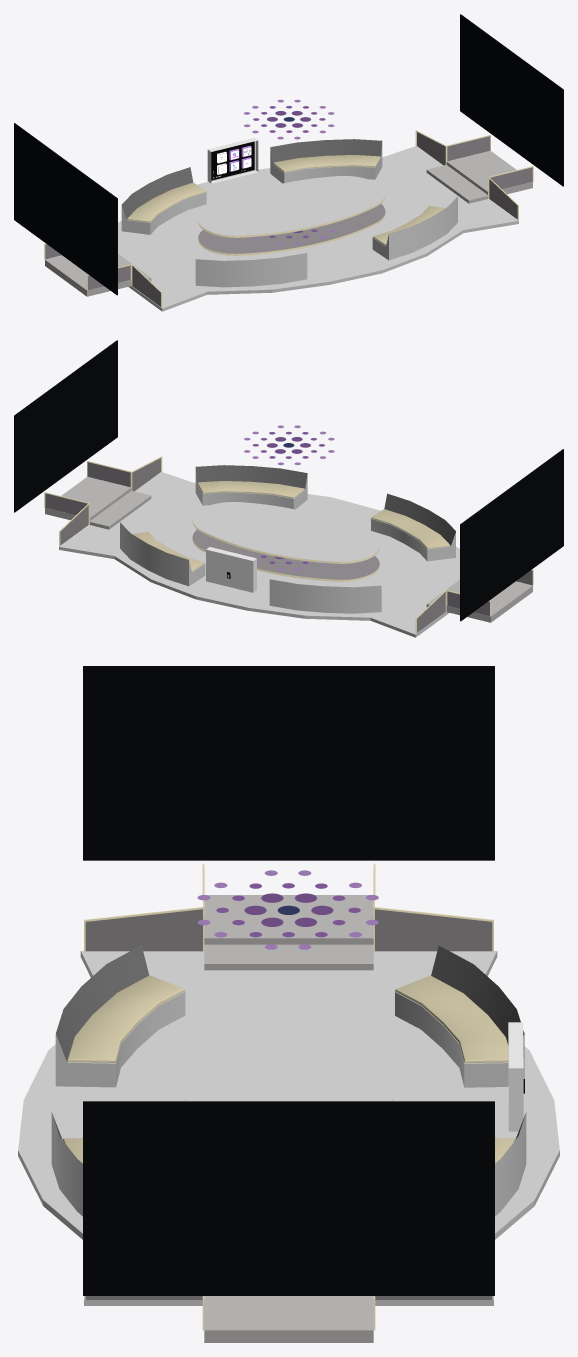
Rendered from corporativeMode4.glb.
The picture shows the model from 3 angles, top to bottom: view 1: azimuth 30°, elevation 25°; view 2: azimuth 150°, elevation 25°; view 3: azimuth 270°, elevation 25°; orthographic projection. The views are drawn at different scales.
Visible parts, largest first — view 1: p05_floor, p05_sofa, p05_tv_001, p05_tv_002.001, p05_tablev2_001, p05_stairs_001.001, p05_glass_floor, p05_railing_001, p05_railing_002, p05_buttonsz_01, p05_logo_MRCgroup.002, p05_buttonsz_02 (+1 smaller); view 2: p05_floor, p05_sofa, p05_tv_001, p05_tv_002.001, p05_tablev2_001, p05_stairs_001.001, p05_glass_floor, p05_buttonsz_02, p05_railing_001, p05_railing_002, p05_logo_MRCgroup.002, p05_railing_003; view 3: p05_tv_002.001, p05_tv_001, p05_floor, p05_sofa, p05_stairs_001.001, p05_tablev2_001, p05_railing_002, p05_logo_MRCgroup.002, p05_buttonsz_02, p05_railing_003.
Part boxes in pixels (x1=…): p05_floor: x1=118, y1=146, x2=518, y2=311; p05_sofa: x1=121, y1=139, x2=457, y2=287; p05_tv_001: x1=460, y1=14, x2=563, y2=186; p05_tv_002.001: x1=14, y1=123, x2=117, y2=295; p05_tablev2_001: x1=198, y1=176, x2=385, y2=237; p05_stairs_001.001: x1=45, y1=151, x2=532, y2=296; p05_glass_floor: x1=198, y1=204, x2=385, y2=255; p05_railing_001: x1=45, y1=136, x2=532, y2=290; p05_railing_002: x1=132, y1=132, x2=517, y2=306; p05_buttonsz_01: x1=211, y1=141, x2=254, y2=180; p05_logo_MRCgroup.002: x1=243, y1=99, x2=334, y2=139; p05_buttonsz_02: x1=207, y1=138, x2=258, y2=183; p05_floor: x1=59, y1=472, x2=459, y2=637; p05_sofa: x1=120, y1=465, x2=455, y2=613; p05_tv_001: x1=14, y1=340, x2=117, y2=512; p05_tv_002.001: x1=460, y1=449, x2=563, y2=621; p05_tablev2_001: x1=192, y1=502, x2=379, y2=563; p05_stairs_001.001: x1=45, y1=477, x2=532, y2=622; p05_glass_floor: x1=192, y1=530, x2=379, y2=581; p05_buttonsz_02: x1=206, y1=547, x2=256, y2=592; p05_railing_001: x1=45, y1=462, x2=532, y2=616; p05_railing_002: x1=60, y1=458, x2=445, y2=632; p05_logo_MRCgroup.002: x1=244, y1=425, x2=334, y2=465; p05_railing_003: x1=59, y1=456, x2=446, y2=633; p05_tv_002.001: x1=83, y1=666, x2=494, y2=860; p05_tv_001: x1=83, y1=1101, x2=494, y2=1295; p05_floor: x1=18, y1=951, x2=559, y2=1305; p05_sofa: x1=51, y1=945, x2=526, y2=1216; p05_stairs_001.001: x1=204, y1=895, x2=373, y2=1342; p05_tablev2_001: x1=185, y1=1001, x2=392, y2=1101; p05_railing_002: x1=85, y1=909, x2=492, y2=1299; p05_logo_MRCgroup.002: x1=197, y1=870, x2=378, y2=949; p05_buttonsz_02: x1=508, y1=1022, x2=523, y2=1131; p05_railing_003: x1=84, y1=907, x2=493, y2=1299.
Size of what is drawn, in the model's own units: 28.16 by 7.44 by 14.78.
Materials: 6 (6 with a texture image).
